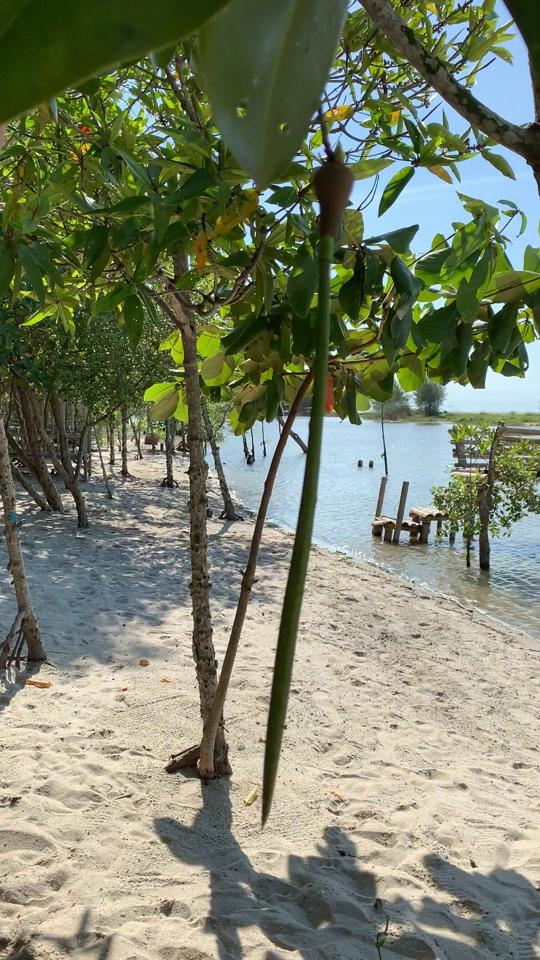setengah matang: (254, 140, 363, 836)
